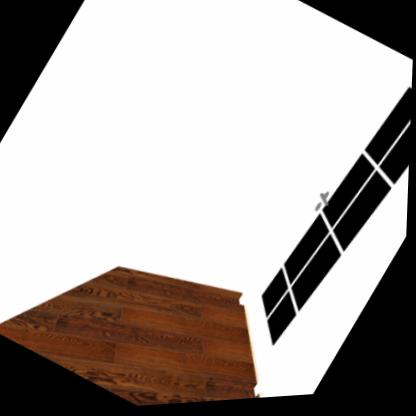Wooden floor: (0, 269, 261, 408)
